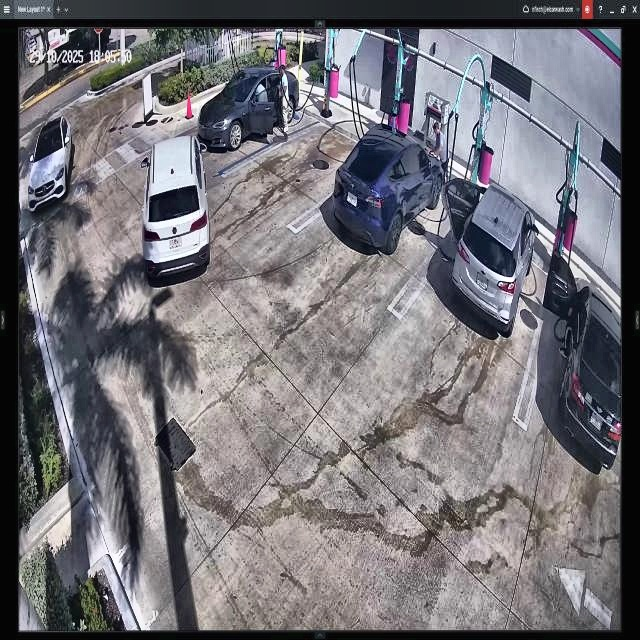Car: (334, 121, 446, 249), (442, 176, 536, 323), (201, 59, 299, 164), (142, 135, 212, 277)
